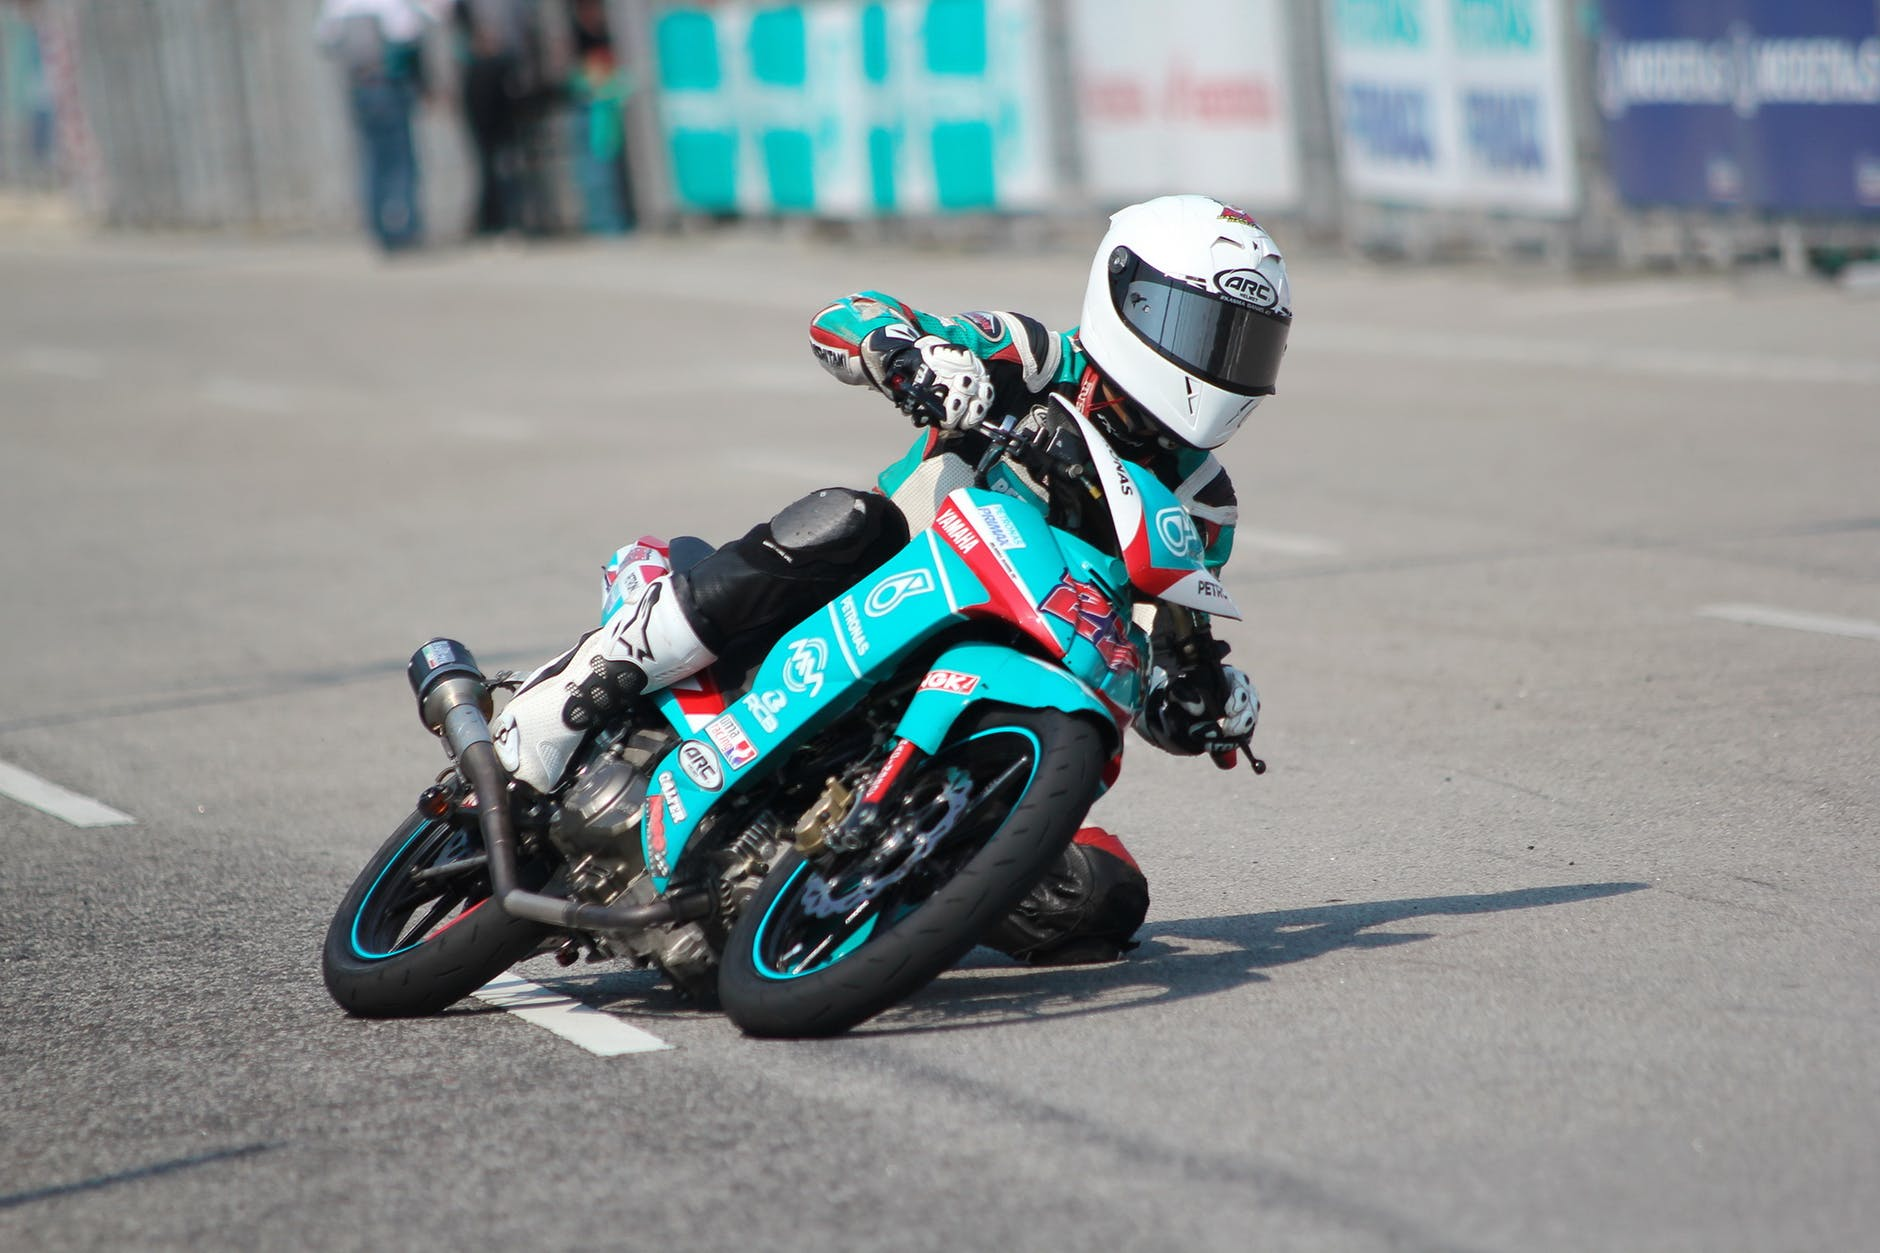helmet: (1085, 182, 1287, 468)
